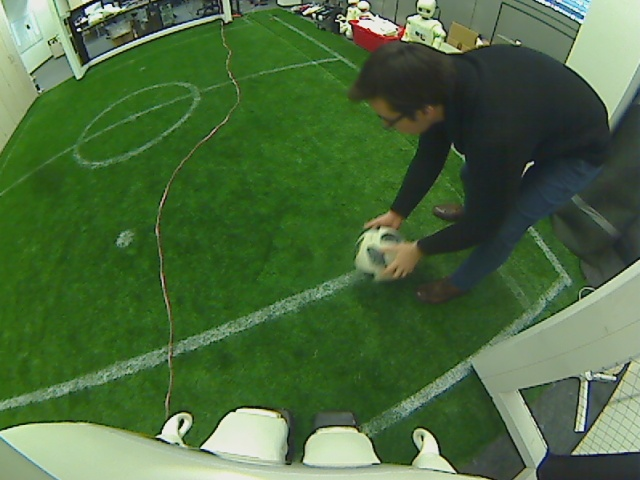ball: (354, 226, 407, 275)
